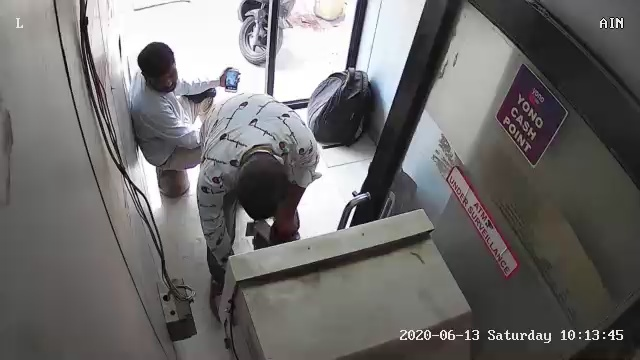open: (328, 2, 637, 354)
